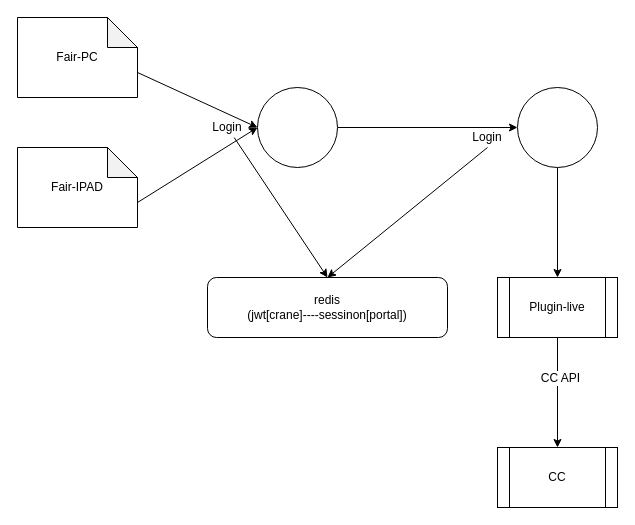
This 635x525 diagram has some shape labels left out. The centre of each missing label's shape, as x and y in pixels:
"Crane" belongs at (297,127).
"Portal" belongs at (557,127).
